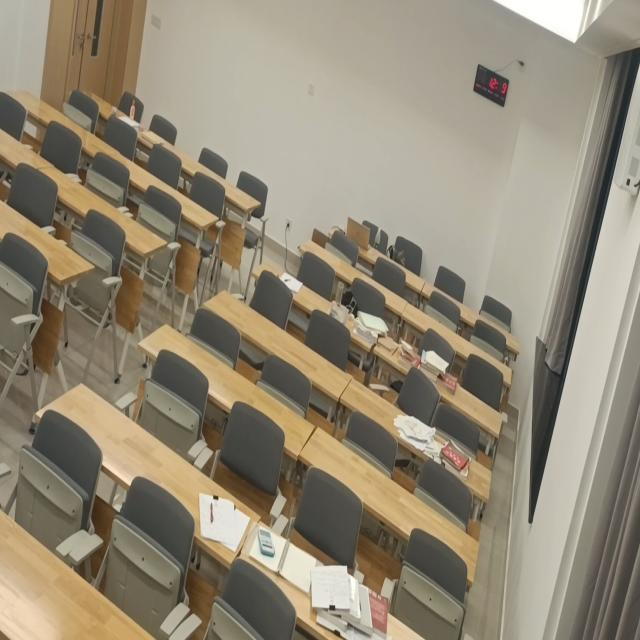Non-empty: (32, 381, 260, 570), (233, 518, 424, 636), (375, 336, 504, 442), (251, 262, 388, 353), (70, 86, 177, 153), (330, 223, 425, 295)
empty: (299, 424, 481, 585), (139, 321, 318, 457), (1, 496, 157, 640), (202, 291, 350, 399), (22, 163, 168, 254), (399, 301, 514, 392), (94, 152, 220, 231), (0, 198, 96, 284), (167, 152, 259, 218)
